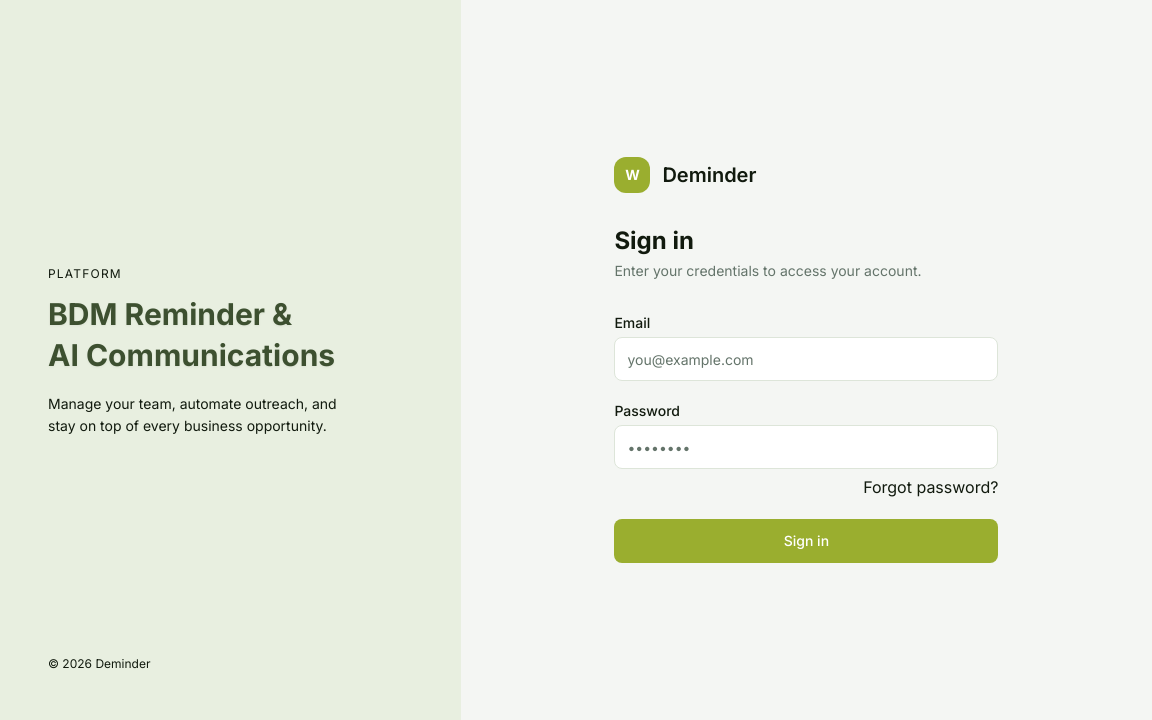
LoginPage › shows error message on failed login
Type "bad@test.com" into the field labelled "Email". click: (806, 359)
box: [614, 337, 998, 381]
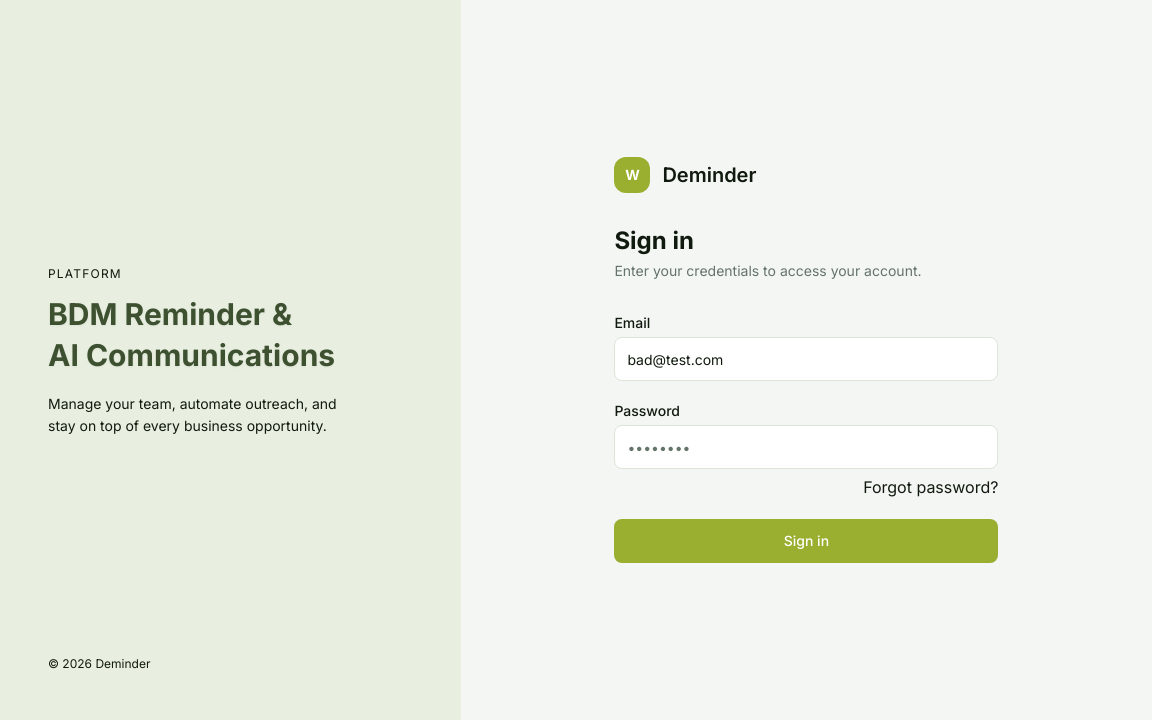
Type "wrongpass" into the password field labelled "Password". click: (806, 447)
box: [614, 425, 998, 469]
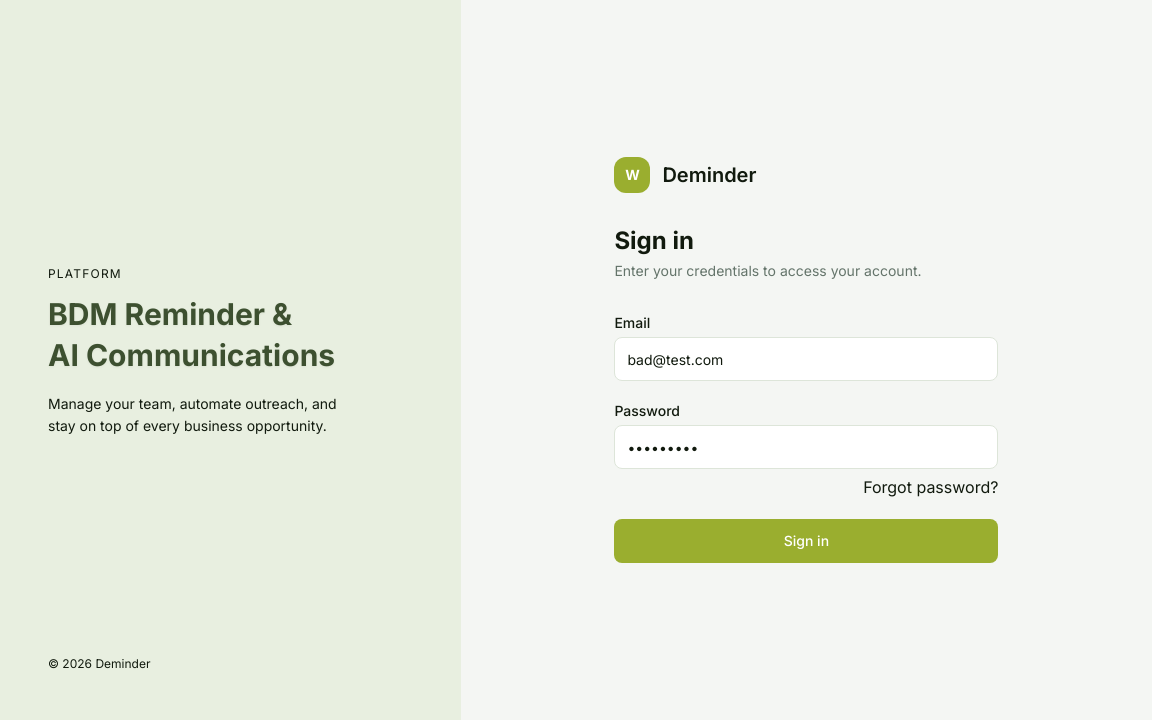
Click the button "Sign in". click: (806, 541)
box: [614, 519, 998, 563]
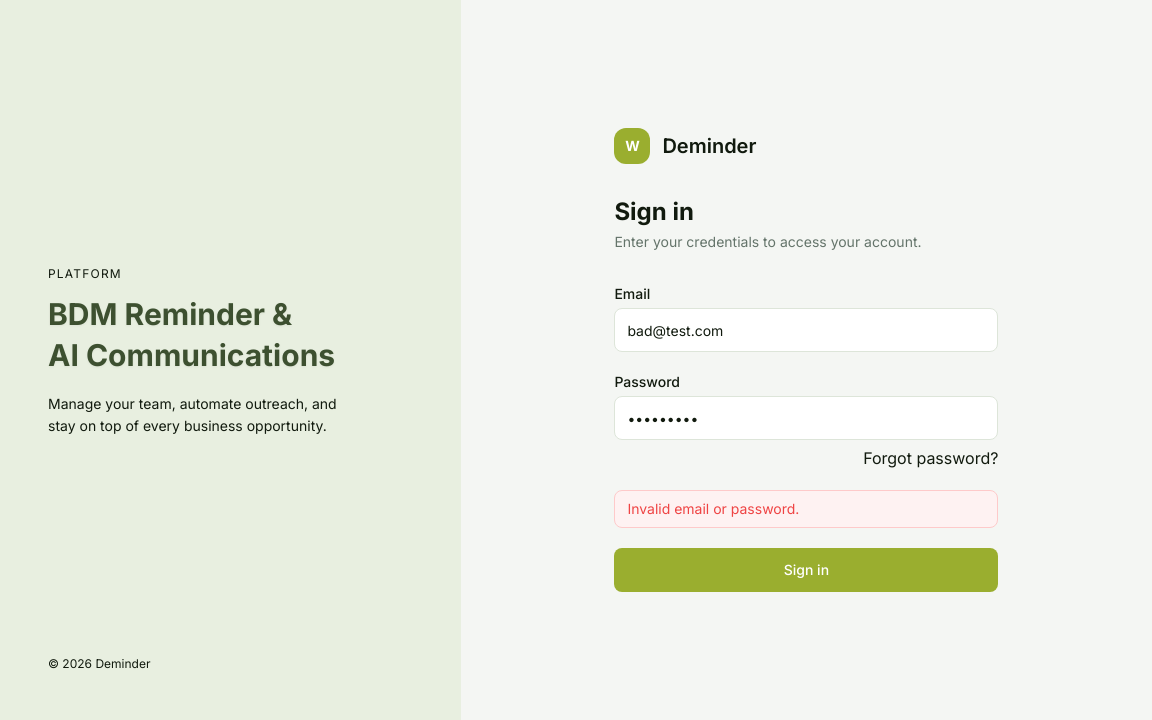
Expected: the text "Invalid email or password." is shown, [614, 490, 998, 528]
